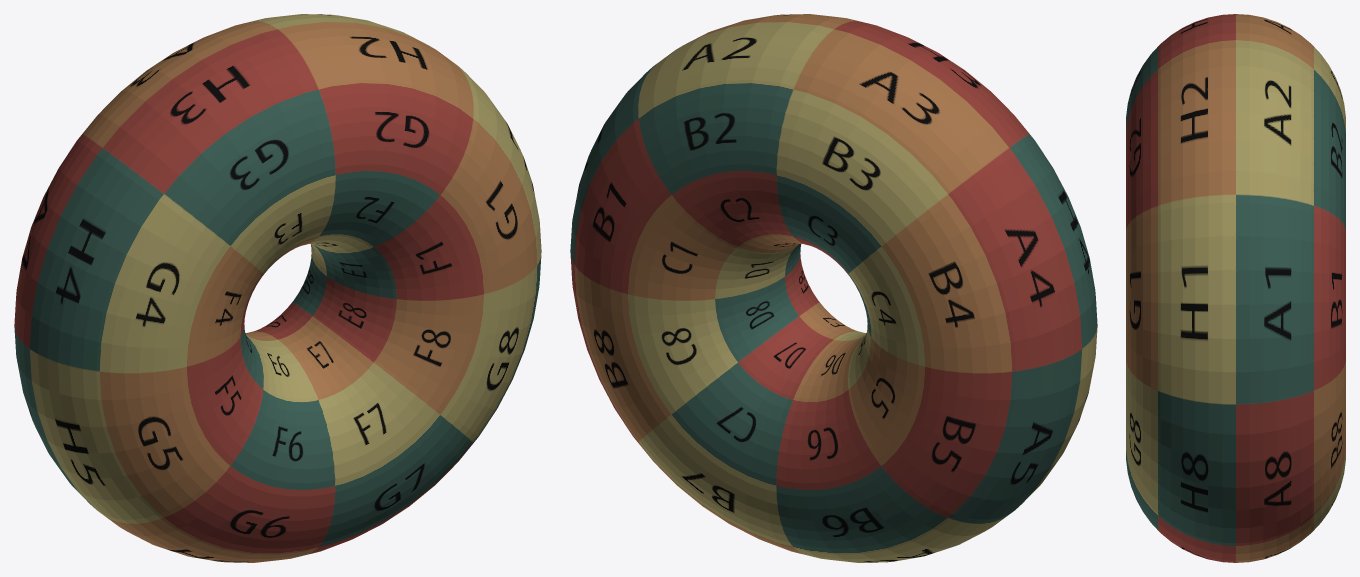
File: texture_torus_R2_r21.glb
3 renders of one model, left to right at view 1: azimuth 30°, elevation 25°; view 2: azimuth 150°, elevation 25°; view 3: azimuth 270°, elevation 25°, orthographic. The views are drawn at different scales.
Parts seen in each view (by area): view 1: world; view 2: world; view 3: world.
Boxes of the visible parts, left/top/right/bottom form: world: left=14, top=14, right=541, bottom=562; world: left=570, top=14, right=1097, bottom=562; world: left=1126, top=14, right=1345, bottom=562.
Size of the model in its own units: 18.93 by 18.9 by 7.59.
Materials: 1 (1 with a texture image).
